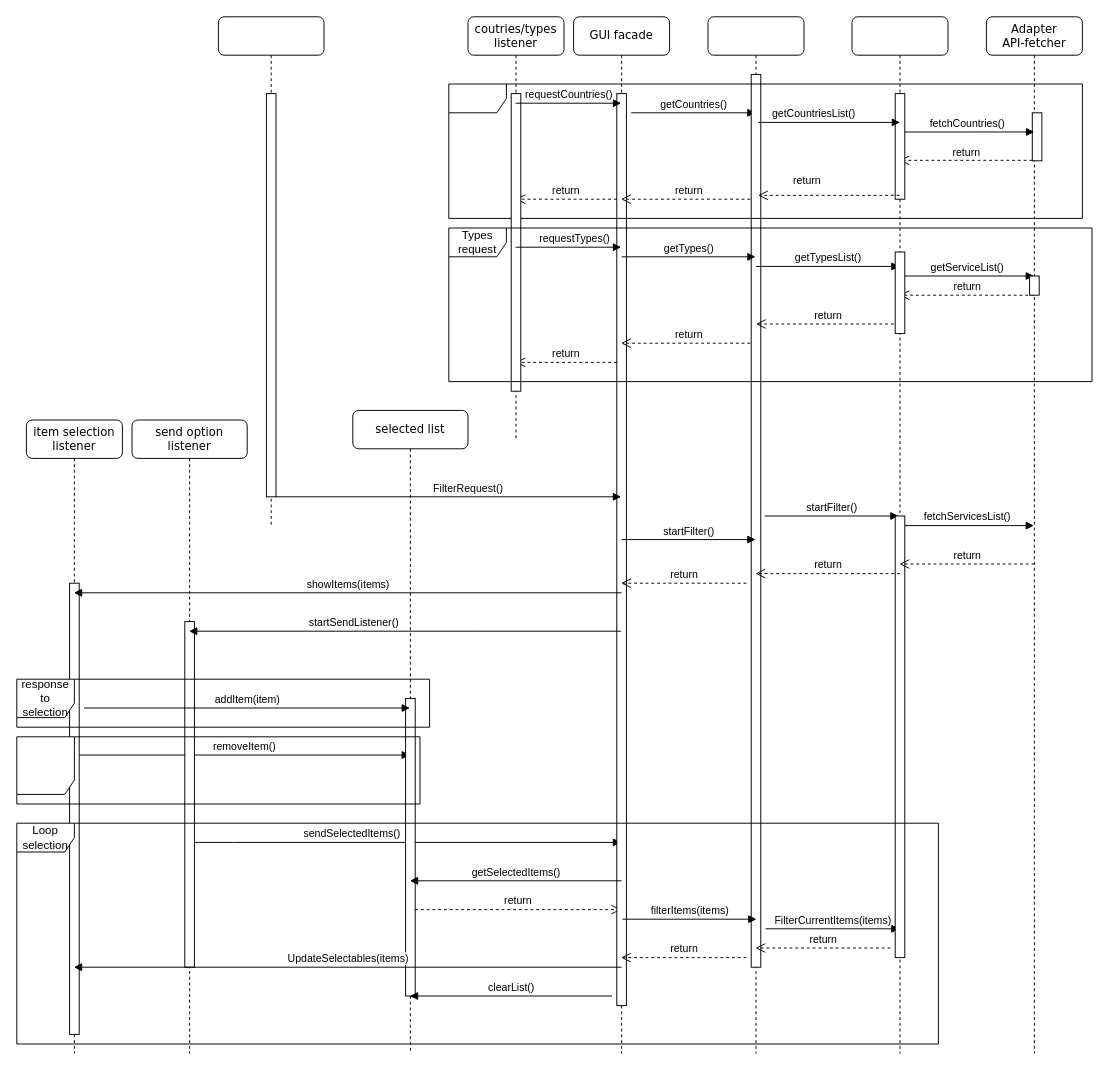
Some shapes in this 1109 by 1070 pixel diagram are drawn without their labels. The shapes that lost their labels are listed below. From the top down, each one's box as (x1, y1, x2, y2) in pixels, then its label:
(448, 83, 1082, 218): countries request
(217, 16, 324, 526): start filtering listener
(707, 16, 804, 1054): back-end facade
(851, 16, 948, 1054): filter
(16, 736, 420, 804): response to deselection
